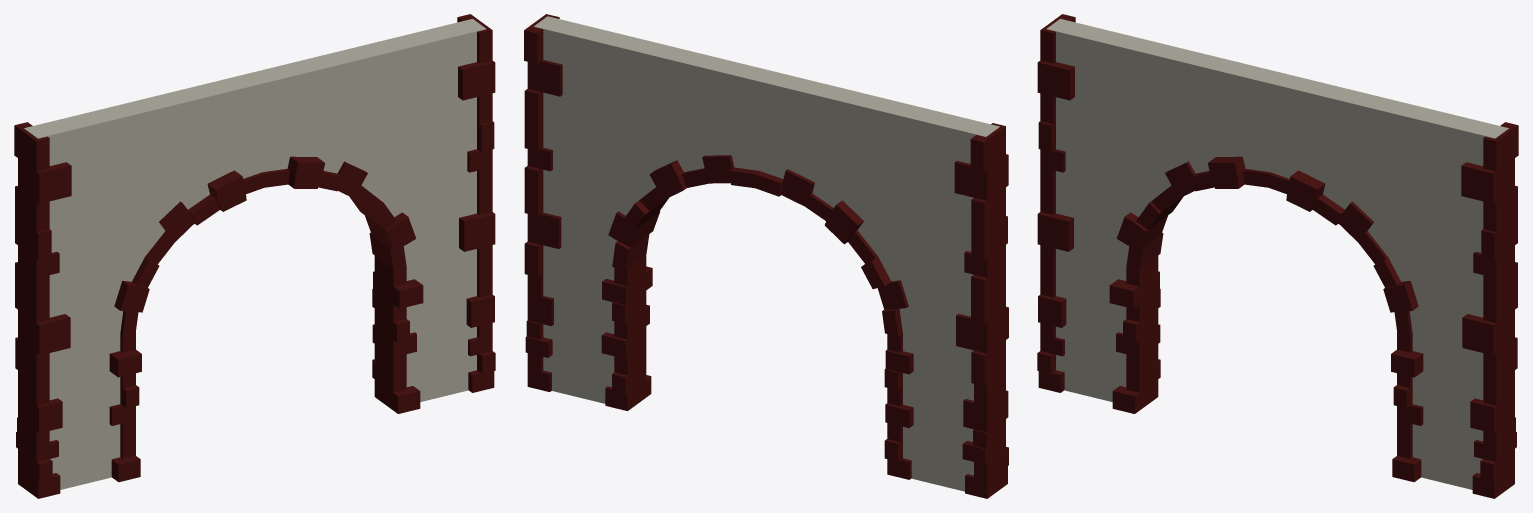
Rendered from DoorCutout.fbx.
3 renders of one model, left to right at view 1: azimuth 30°, elevation 25°; view 2: azimuth 150°, elevation 25°; view 3: azimuth 330°, elevation 25°, orthographic.
Visible parts, largest first — view 1: CutoutWall; view 2: CutoutWall; view 3: CutoutWall.
Boxes of the visible parts, left/top/right/bottom form: CutoutWall: left=14, top=14, right=495, bottom=498; CutoutWall: left=524, top=14, right=1008, bottom=498; CutoutWall: left=1037, top=14, right=1518, bottom=498.
Bounding box in the file's own units: 423 × 316 × 46.65.
1 material, 1 textured.
